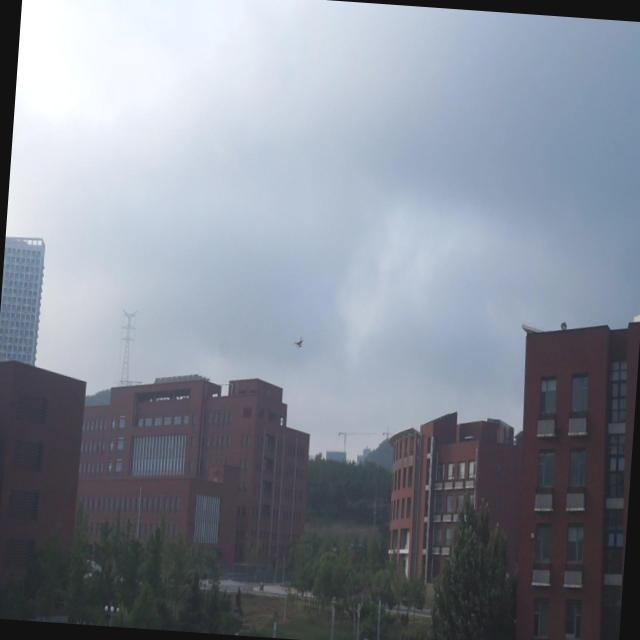drone: (292, 332, 306, 351)
